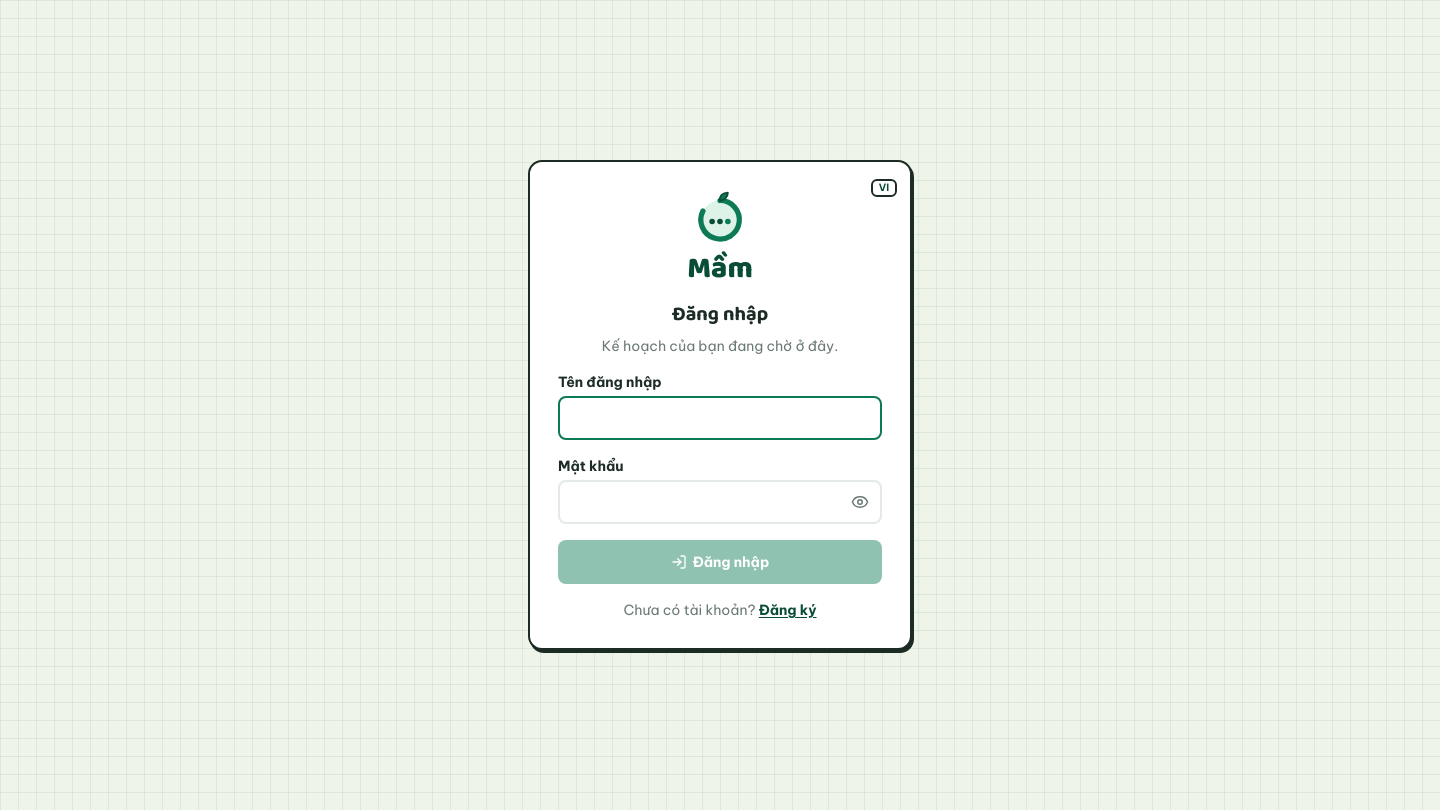
Test case: RequireAuth & LoginPage › shows the backend message and clears the password when login fails
Type "tin" into the field labelled "Tên đăng nhập" at (720, 418), box [558,396,882,440]
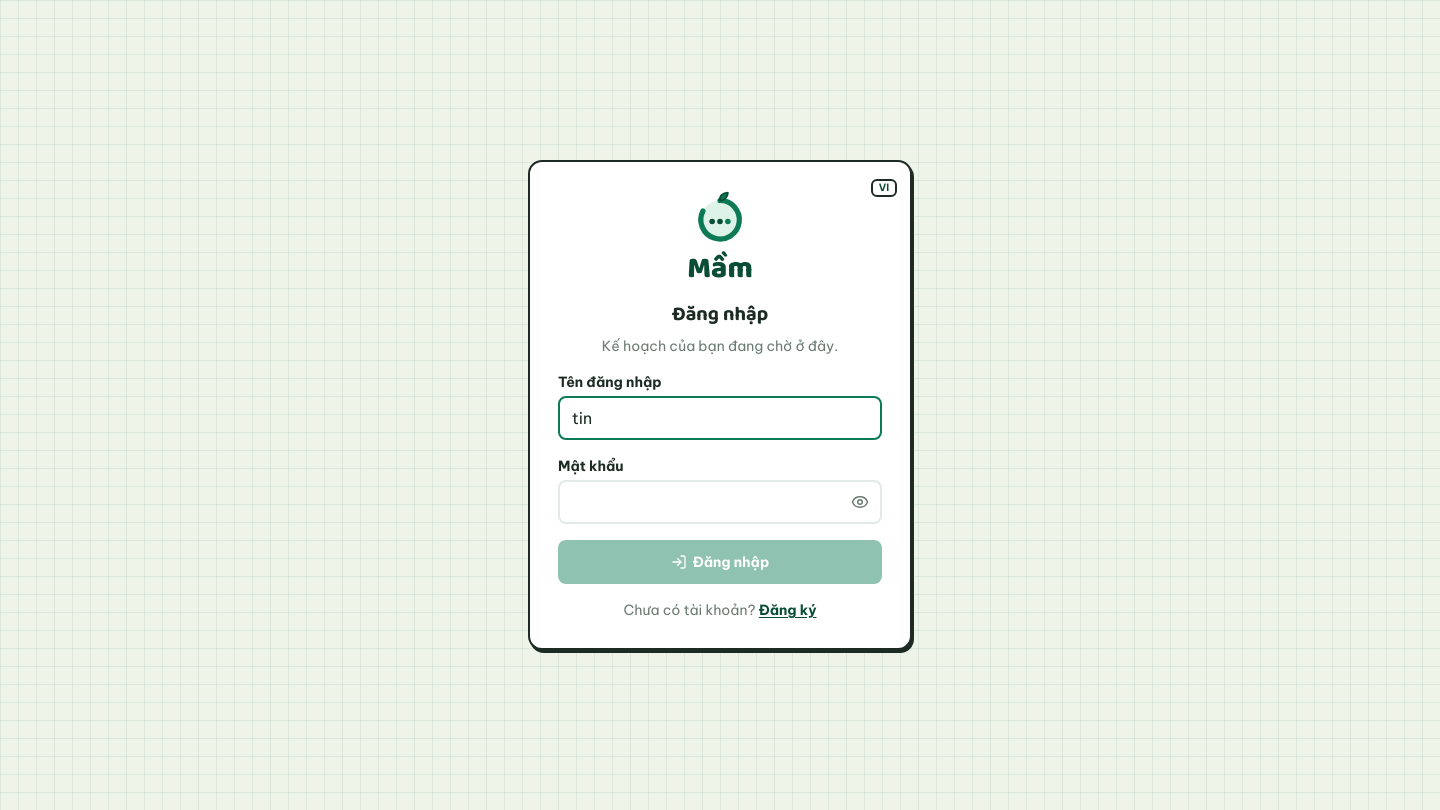
Type "sai" into the password field labelled "Mật khẩu" at (720, 502), box [558,480,882,524]
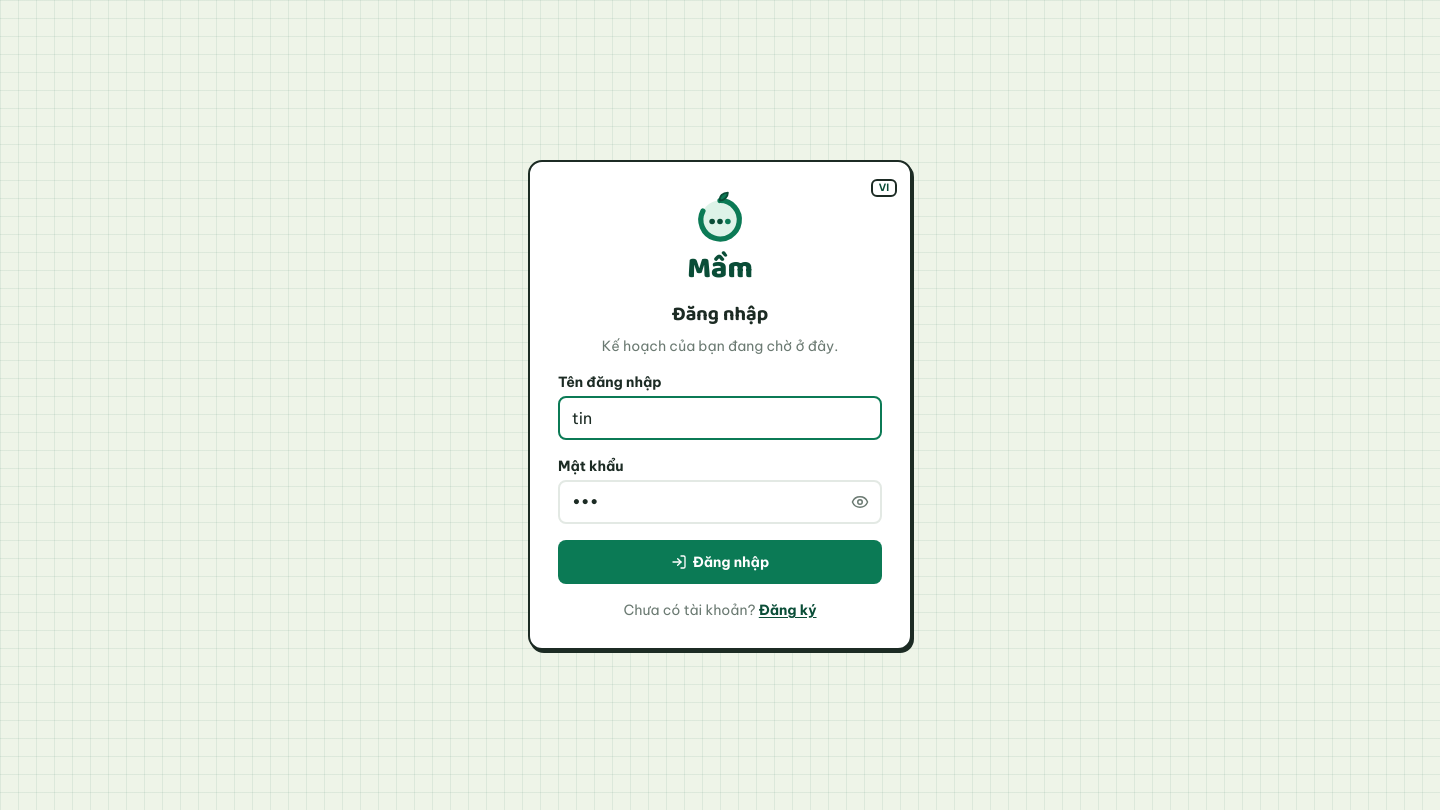
Click the button "Đăng nhập" at (720, 562), box [558,540,882,584]
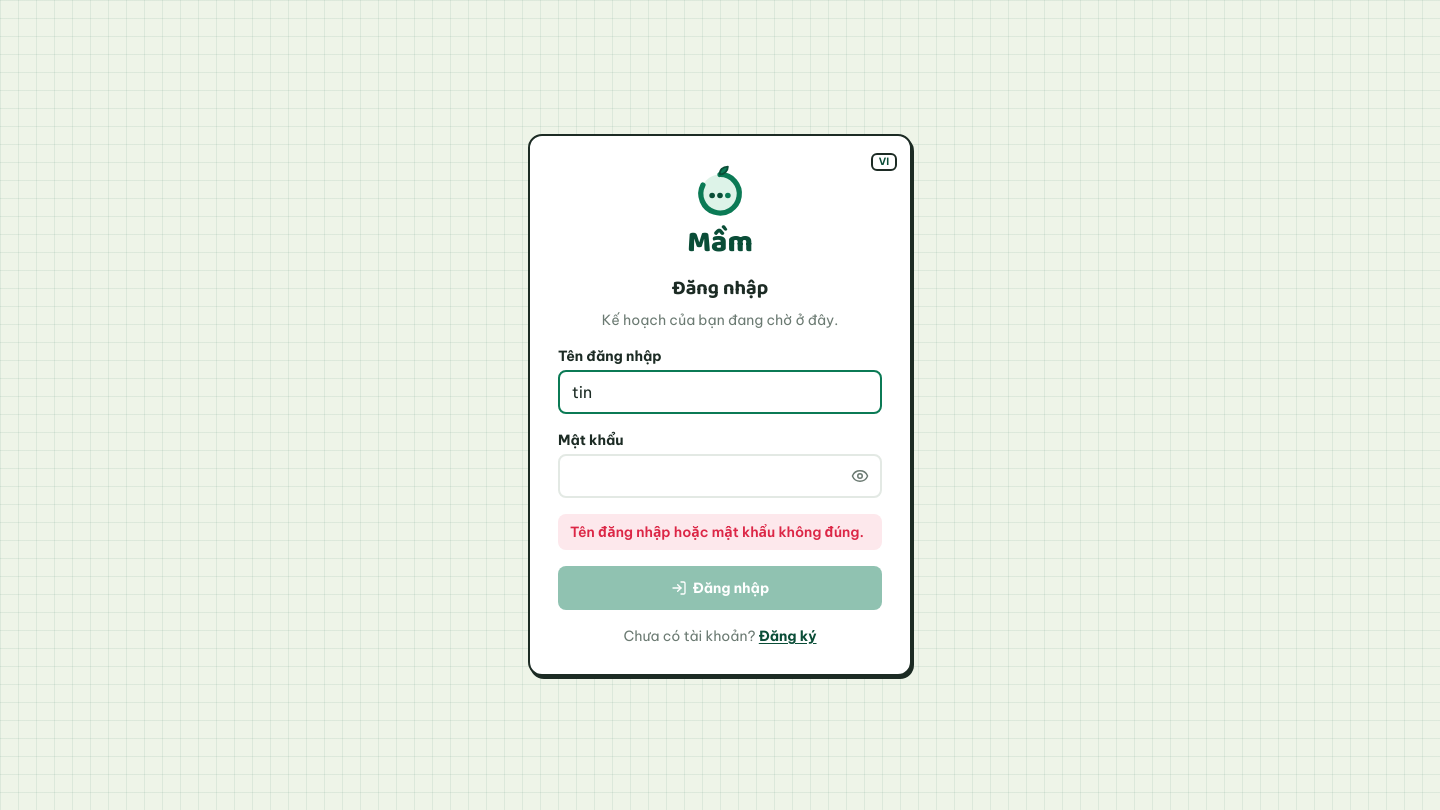
Check: the message reads "Tên đăng nhập hoặc mật khẩu không đúng.", box [570,523,864,541]
Check: the password field labelled "Mật khẩu" is empty, box [558,454,882,498]
